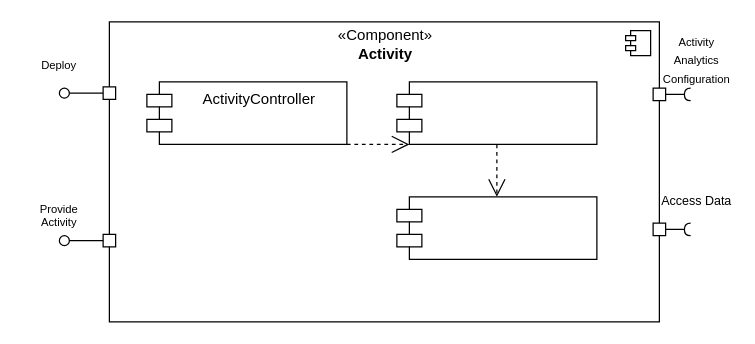
Image size: 755x344. Some labels were removed from this diagram. Here are the shapes that lost their labels. From the top down, the centre of each, then its label:
[496,112]: ActivityService
[496,227]: ActivityRepository
